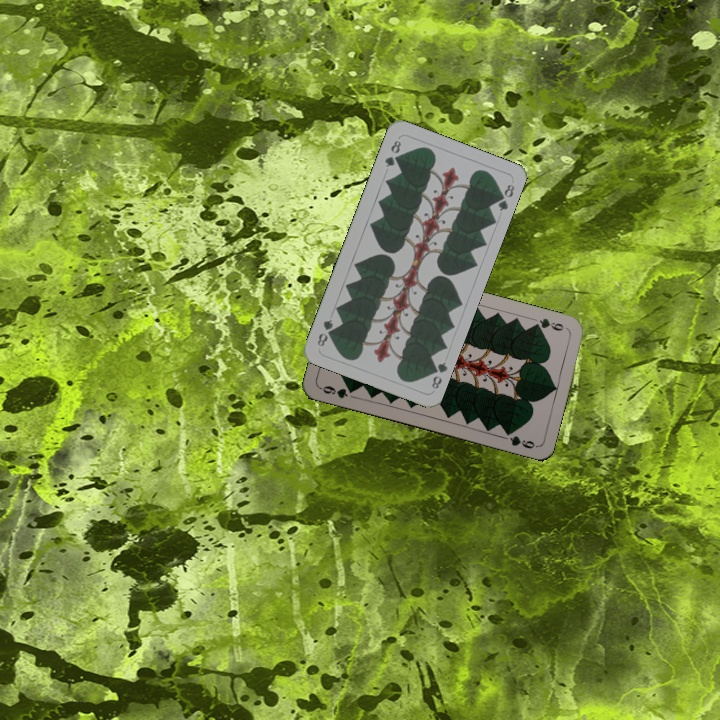G8: (426, 358, 450, 392), (381, 136, 404, 170)
G9: (316, 381, 358, 401), (529, 314, 570, 333)
